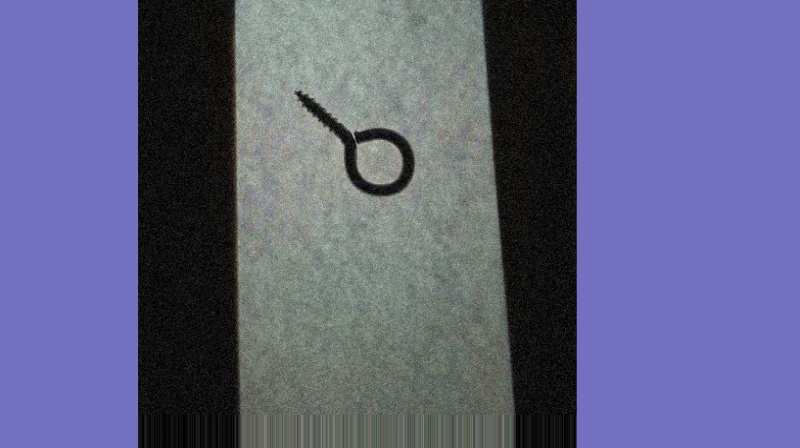O001: (290, 88, 418, 201)
